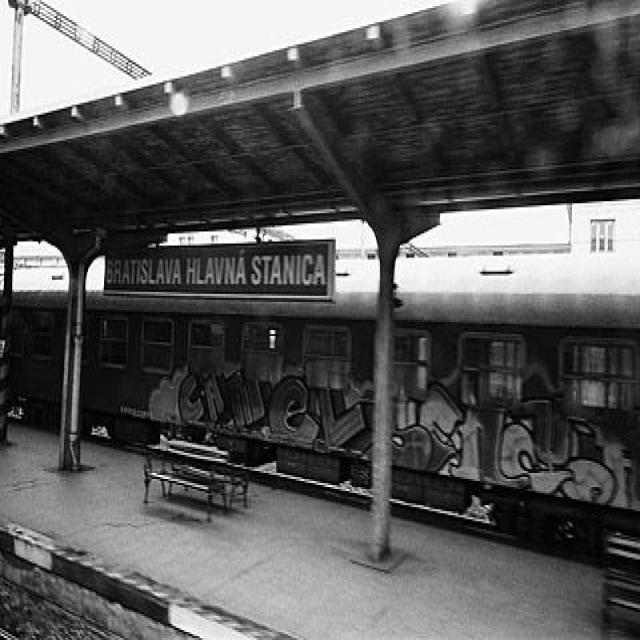train: (0, 290, 639, 567)
